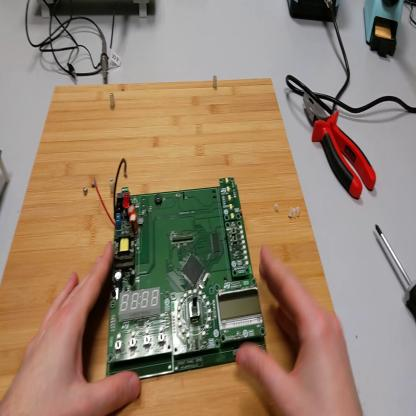hand: (2, 239, 141, 416), (238, 244, 365, 416)
low voltage board: (96, 157, 270, 381)
oscilloscope: (40, 2, 151, 23)
oscilloscope probe tip: (102, 34, 111, 86)
pliers: (303, 87, 378, 202)
screwdriver-: (378, 225, 416, 322)
welder base: (363, 1, 403, 60)
welder station: (289, 1, 342, 27)
working area: (2, 57, 338, 414)
